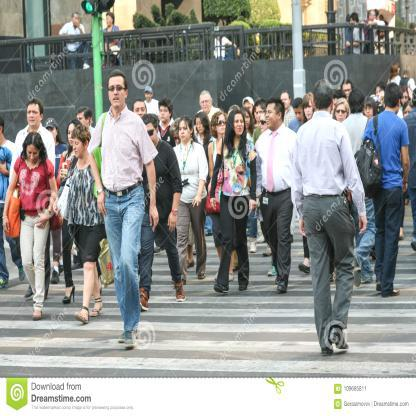person: (92, 70, 154, 352), (296, 80, 356, 360), (366, 80, 408, 298), (210, 108, 254, 294), (13, 130, 54, 320), (256, 98, 295, 294), (65, 127, 102, 324), (172, 116, 206, 286), (156, 97, 177, 142), (22, 97, 46, 132), (58, 9, 86, 34)
